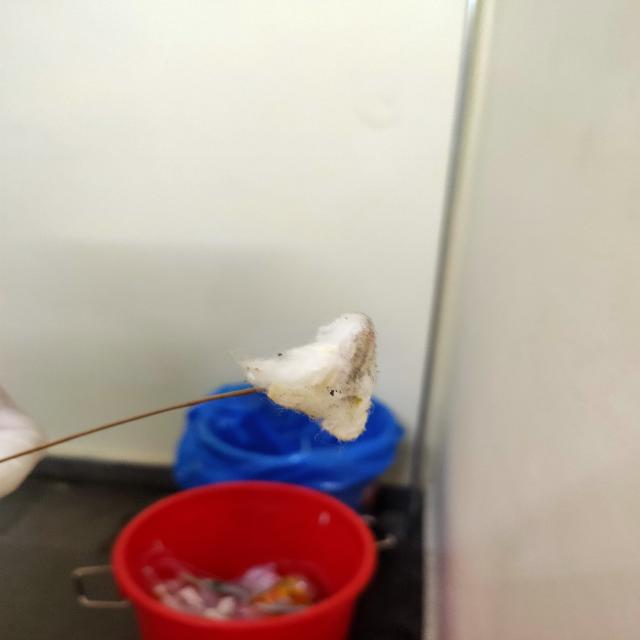B3: (244, 306, 382, 443)
